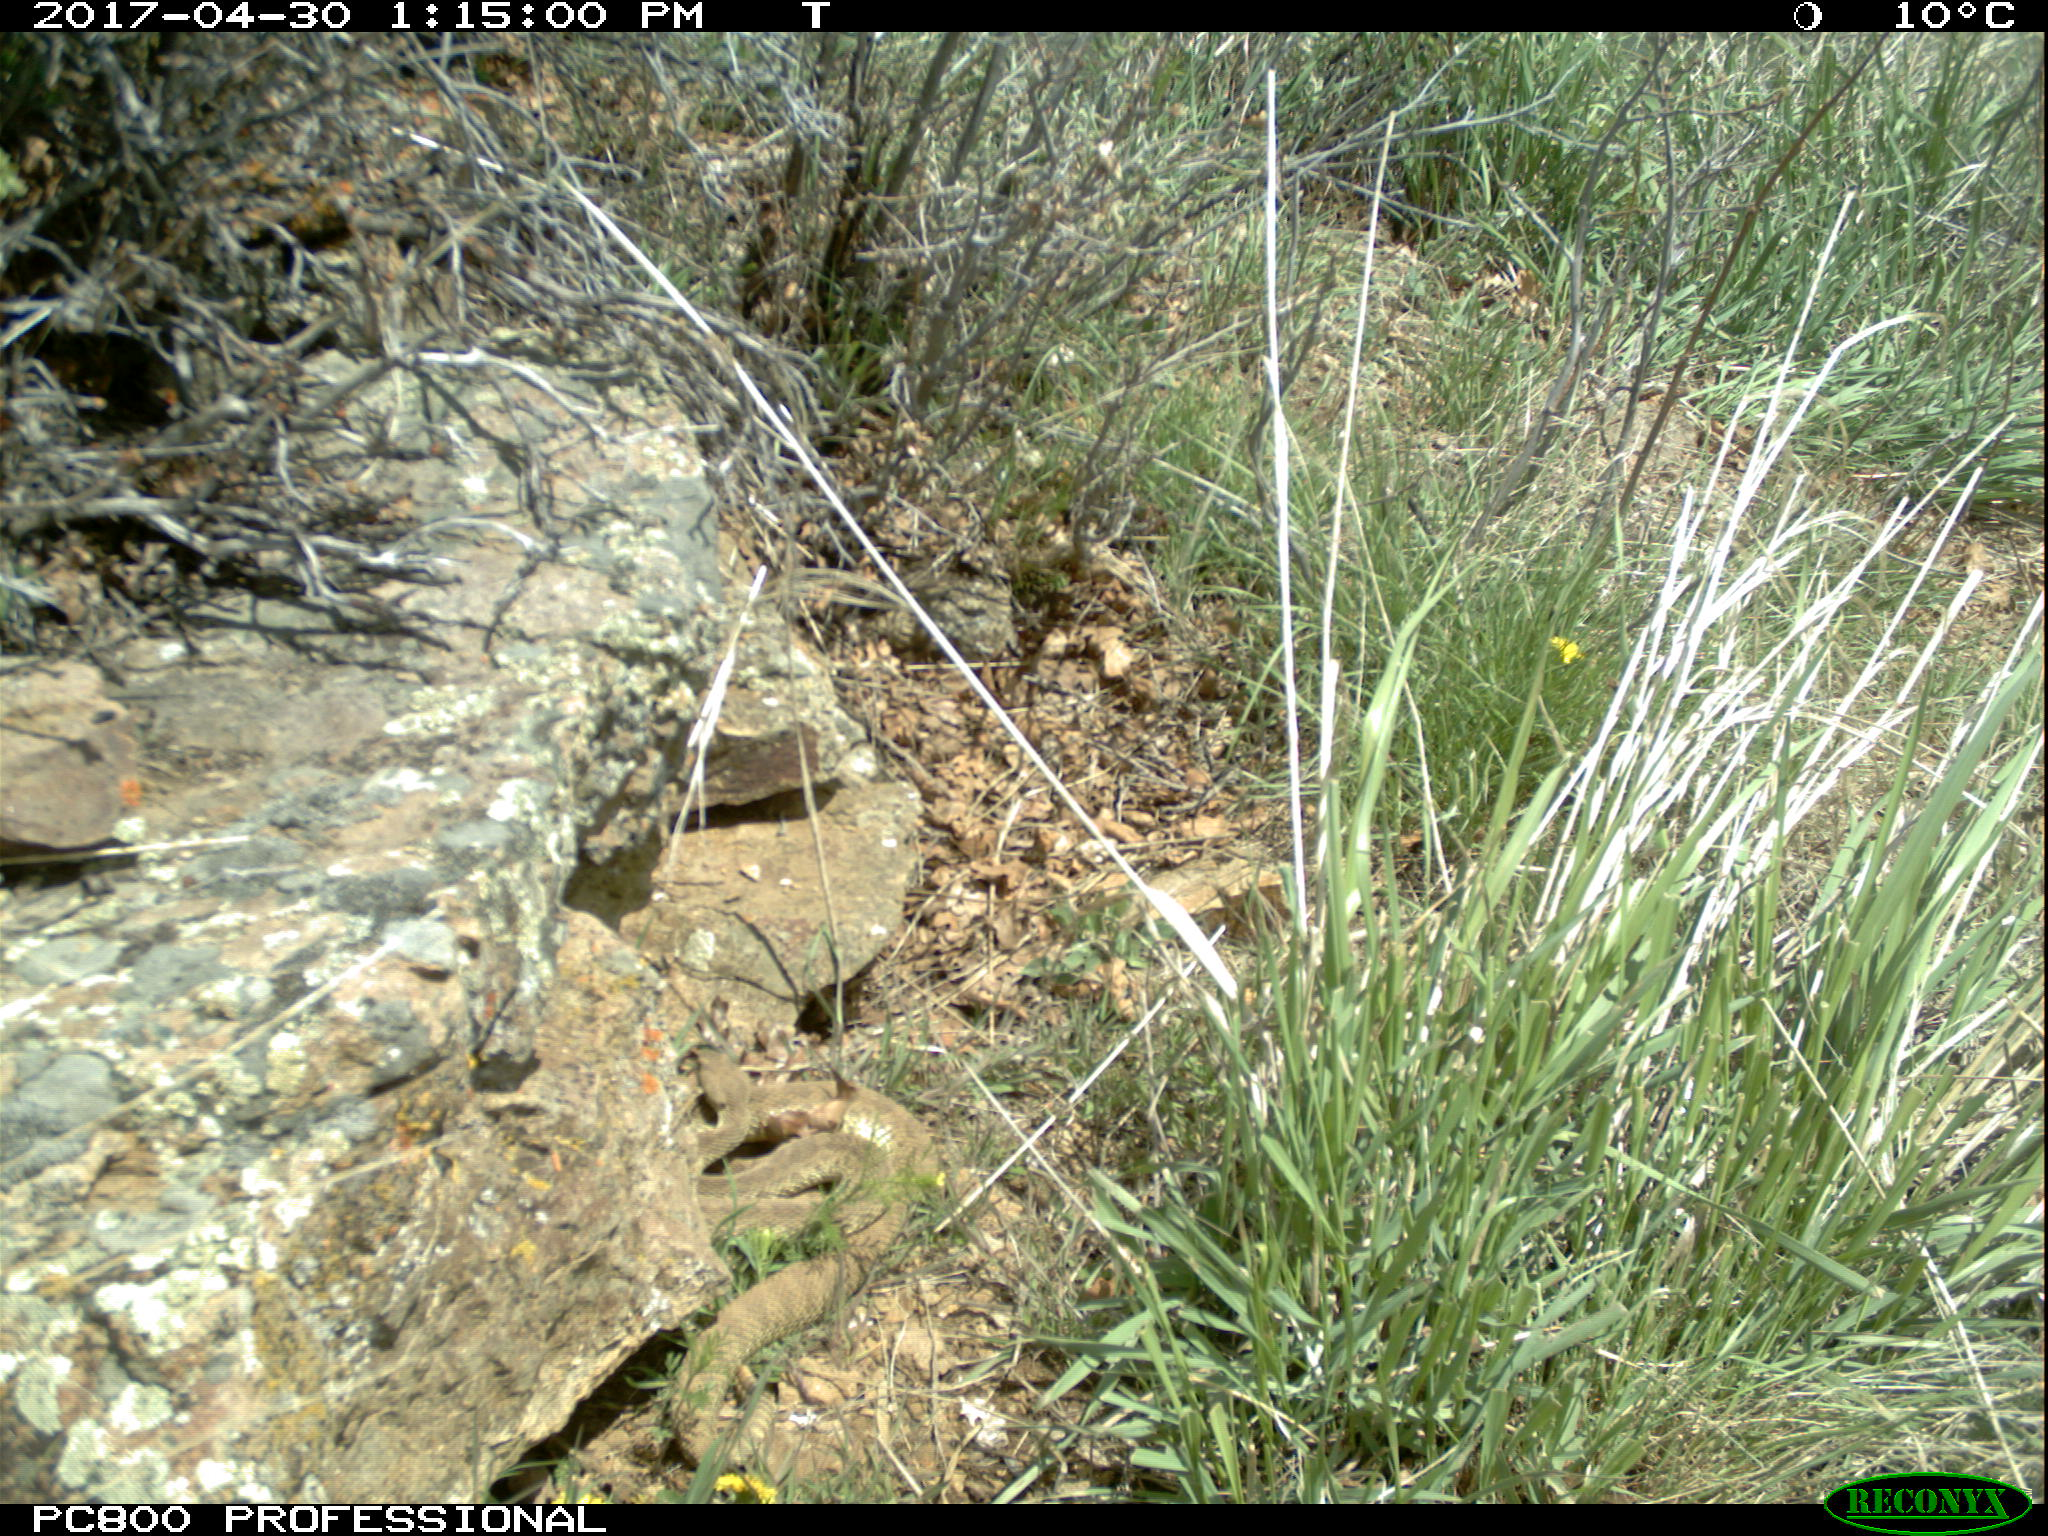snake: (656, 1041, 934, 1468)
